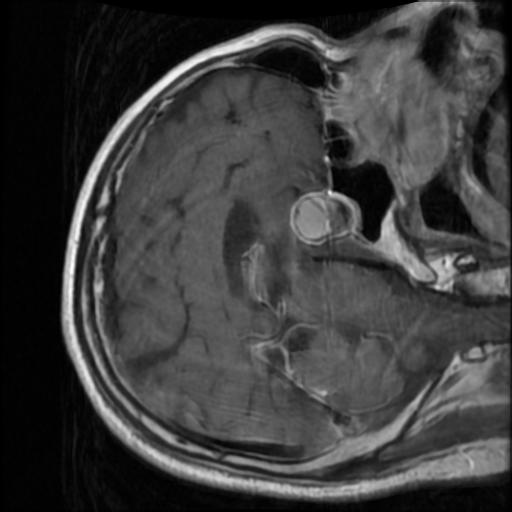pituitary tumour: (288, 194, 343, 244)
